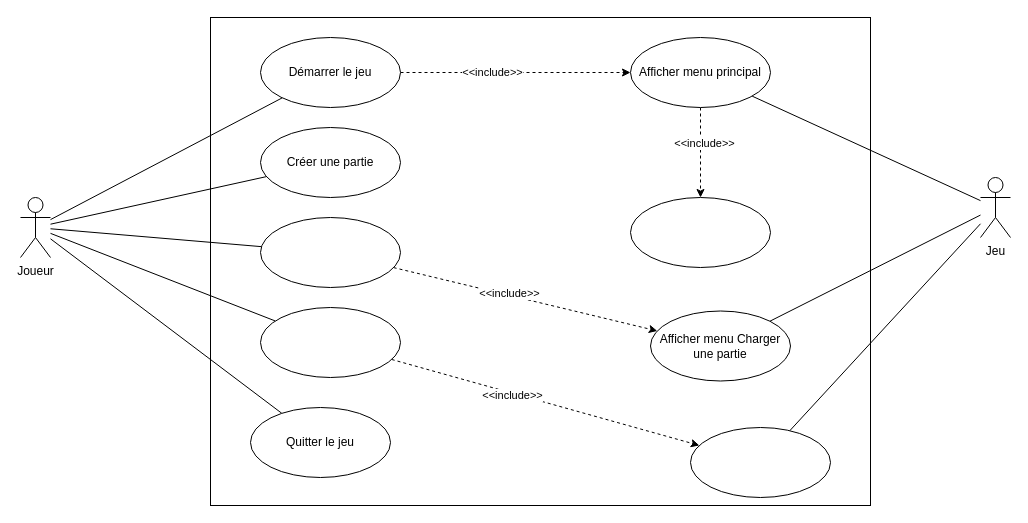
The diagram is 1028 pixels wide and 523 high, and some of its shapes have lost their labels. Each missing label, with the centre of its shape:
"Acceder aux options" goes at (330,342).
"Afficher menu Option" goes at (760,462).
"Charger une partie" goes at (330,252).
"Créer un salon multijoueur" goes at (700,232).
